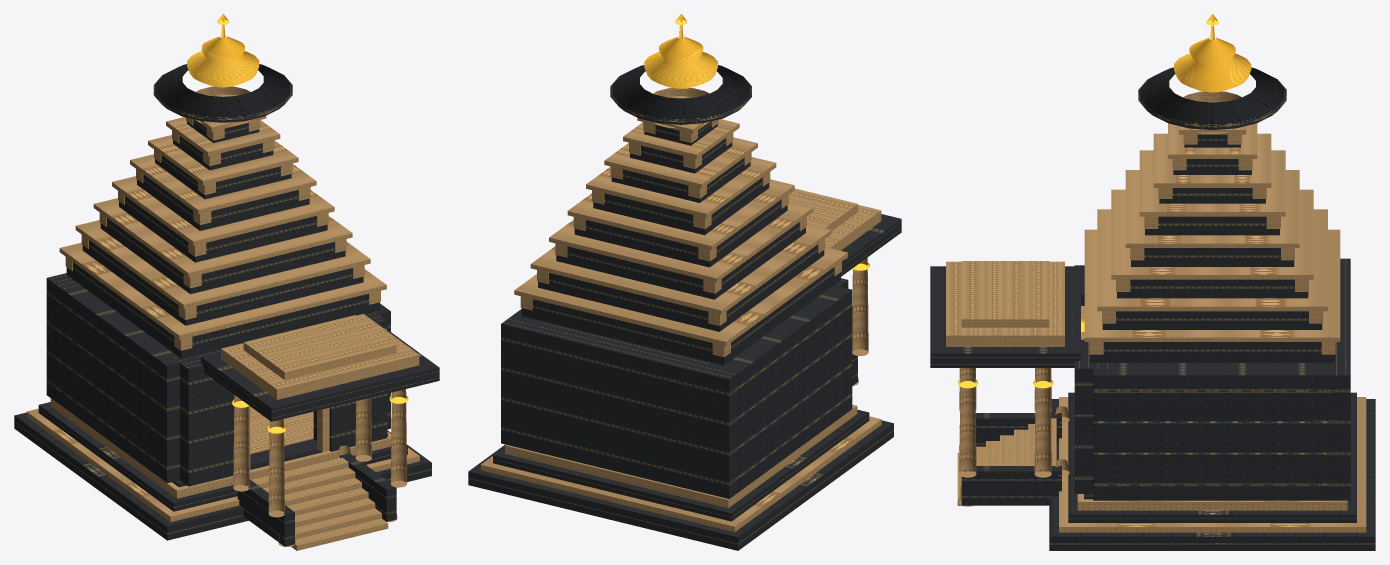
Rendered from temple_shikhara.glb.
3 renders of one model, left to right at view 1: azimuth 30°, elevation 25°; view 2: azimuth 150°, elevation 25°; view 3: azimuth 270°, elevation 25°, orthographic. The views are drawn at different scales.
Visible parts, largest first — view 1: Node_TempleShikhara; view 2: Node_TempleShikhara; view 3: Node_TempleShikhara.
Boxes of the visible parts, x1,y1,x2,y2 form: Node_TempleShikhara: [14, 14, 439, 550]; Node_TempleShikhara: [468, 14, 901, 550]; Node_TempleShikhara: [930, 14, 1375, 550].
Bounding box in the file's own units: 10.4 × 16.45 × 14.2.
3 materials, 3 textured.
